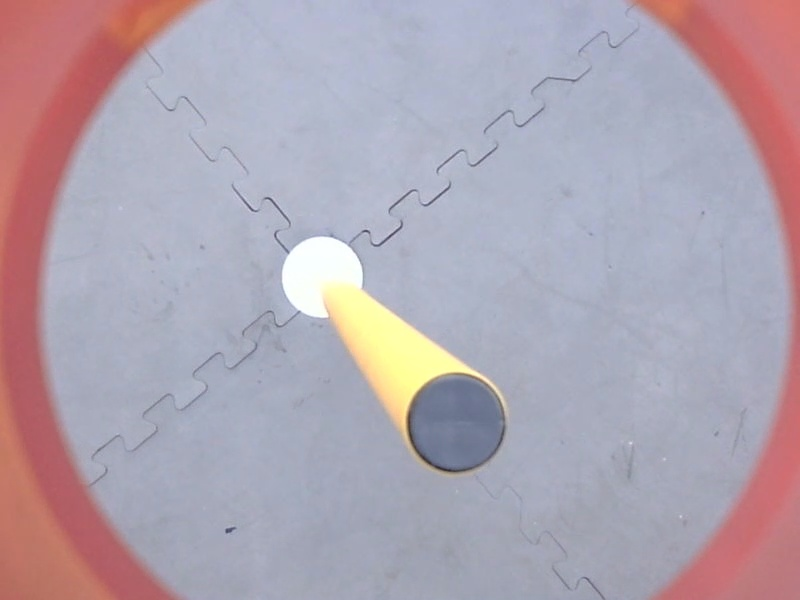tip: (399, 364, 514, 481)
